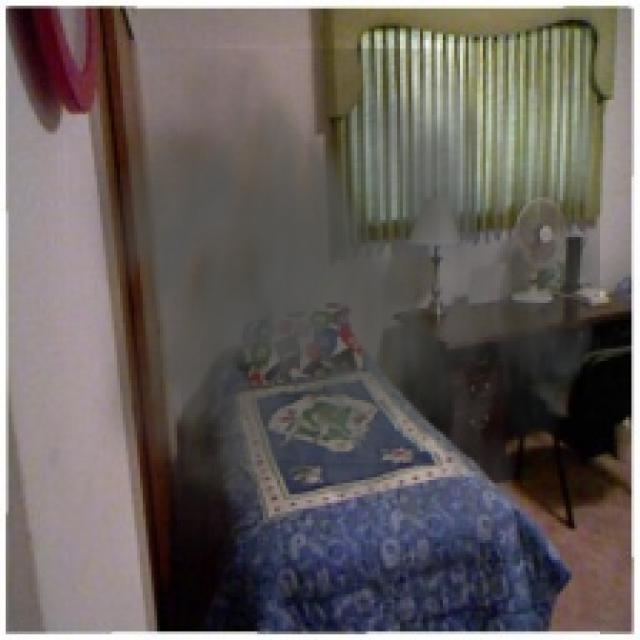smoke: (69, 49, 600, 597)
